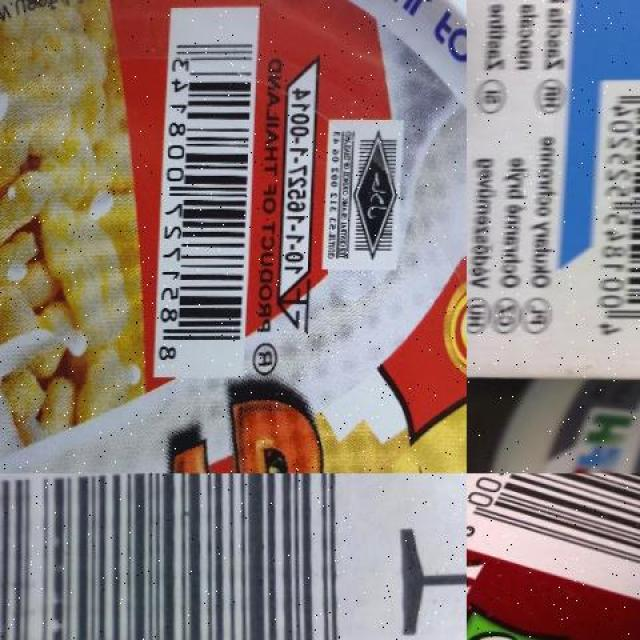Barcode: (0, 473, 397, 639), (159, 12, 258, 376), (466, 473, 640, 610), (590, 80, 640, 346)
